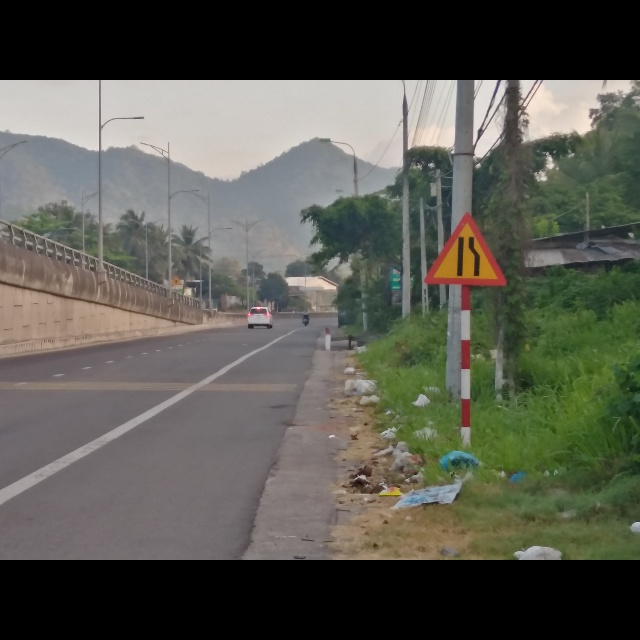Đường bị hẹp bên phải: (422, 210, 507, 287)
